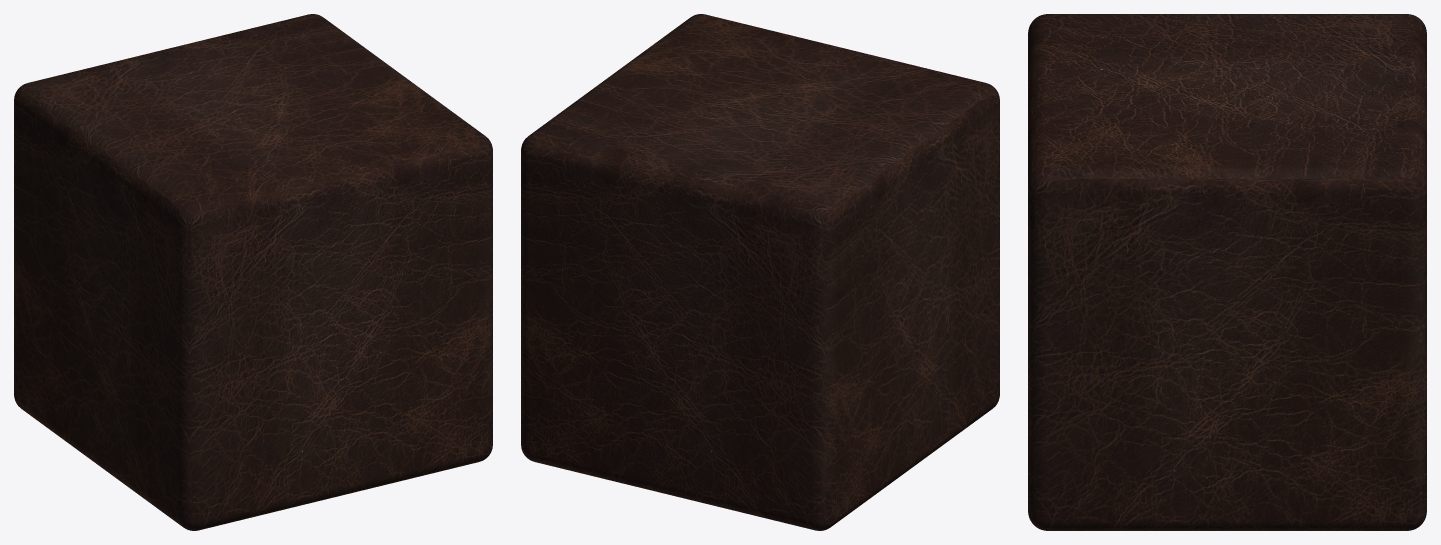
The model's file is leather27.gltf.
3 views of the same model, side by side, from view 1: azimuth 30°, elevation 25°; view 2: azimuth 150°, elevation 25°; view 3: azimuth 270°, elevation 25° (orthographic). The views are drawn at different scales.
Parts seen in each view (by area): view 1: Cube; view 2: Cube; view 3: Cube.
Boxes of the visible parts, box(x1,y1,x2,y2) form: Cube: box(14, 14, 492, 530); Cube: box(521, 14, 999, 530); Cube: box(1028, 14, 1426, 530).
Bounding box in the file's own units: 2 × 2 × 2.
Materials: 1 (1 with a texture image).
